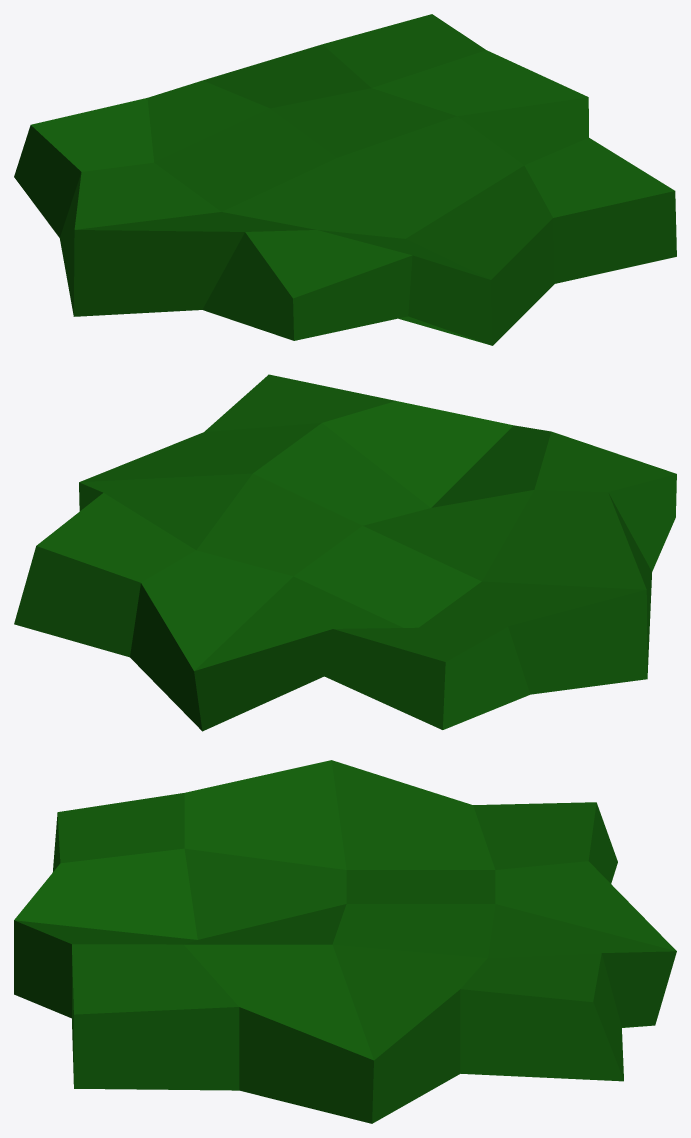
Rendered from greniEss.fbx.
The picture shows the model from 3 angles, top to bottom: view 1: azimuth 30°, elevation 25°; view 2: azimuth 150°, elevation 25°; view 3: azimuth 270°, elevation 25°; orthographic projection. The views are drawn at different scales.
Parts seen in each view (by area): view 1: greniss; view 2: greniss; view 3: greniss.
Part boxes in pixels (x1,y1,x2,y2): greniss: [14, 14, 676, 345]; greniss: [14, 374, 676, 731]; greniss: [14, 760, 676, 1123].
Size of the model in its own units: 0.2325 by 0.0511 by 0.226.
